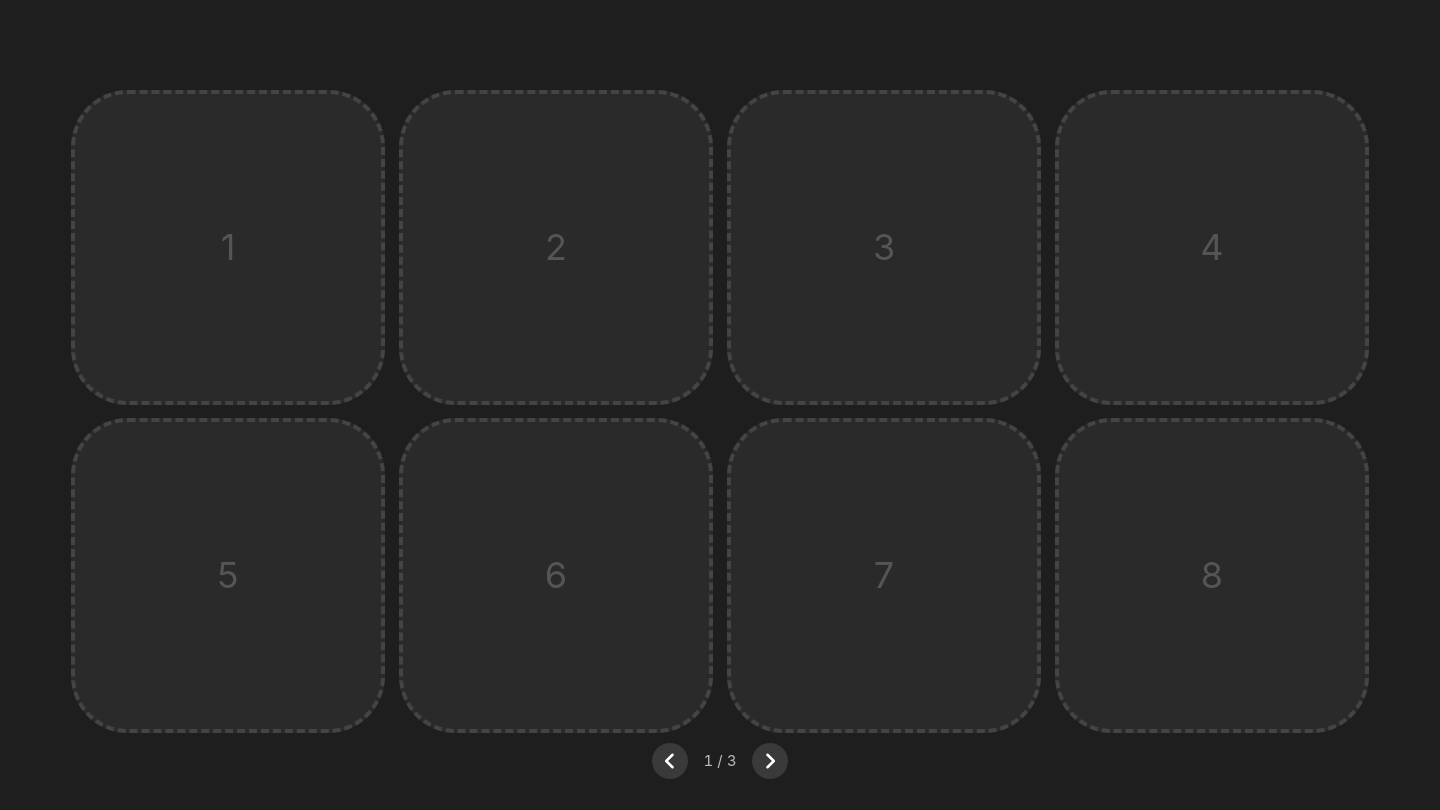
Test case: App remove › unregisters the item on the current page, closes the menu and refreshes state
Expected: the text "1 / 3" is shown, 704,751 -> 736,770
Click the button named "Next page".
click(770, 760)  # box 752,742 -> 788,778
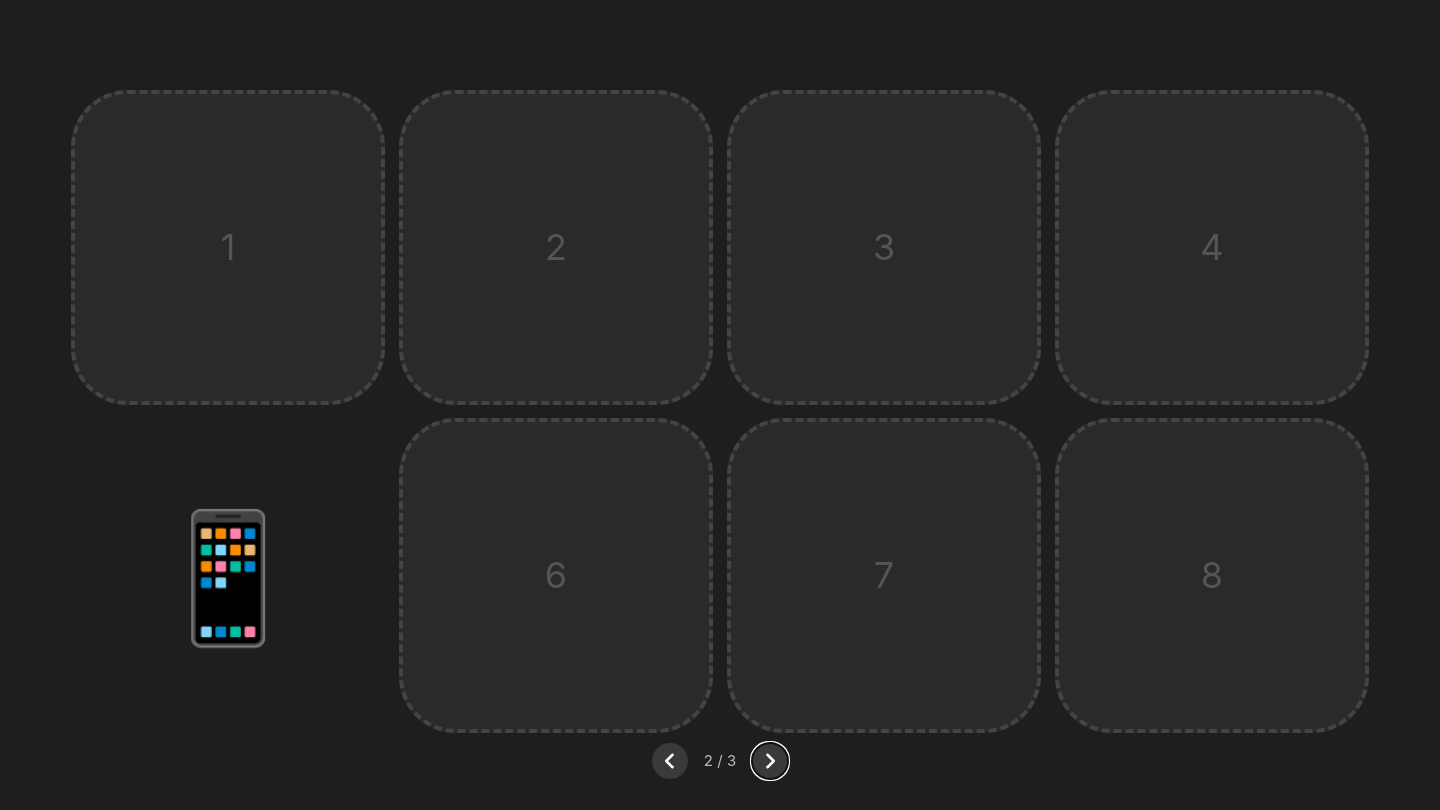
Right-click the button named "Foo".
right_click(228, 575)  # box 149,499 -> 307,651
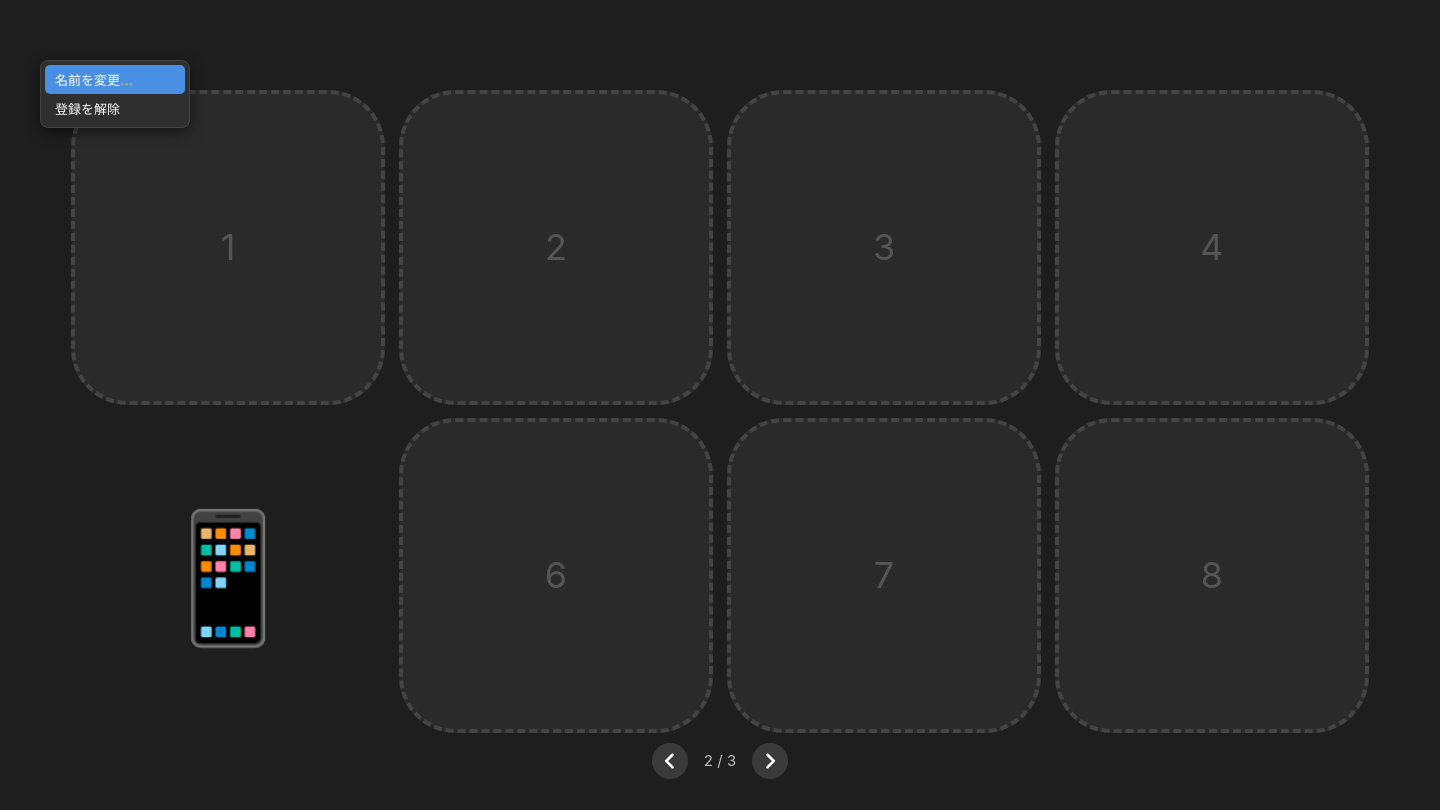
Click the menu item "登録を解除".
click(115, 108)  # box 45,94 -> 185,123
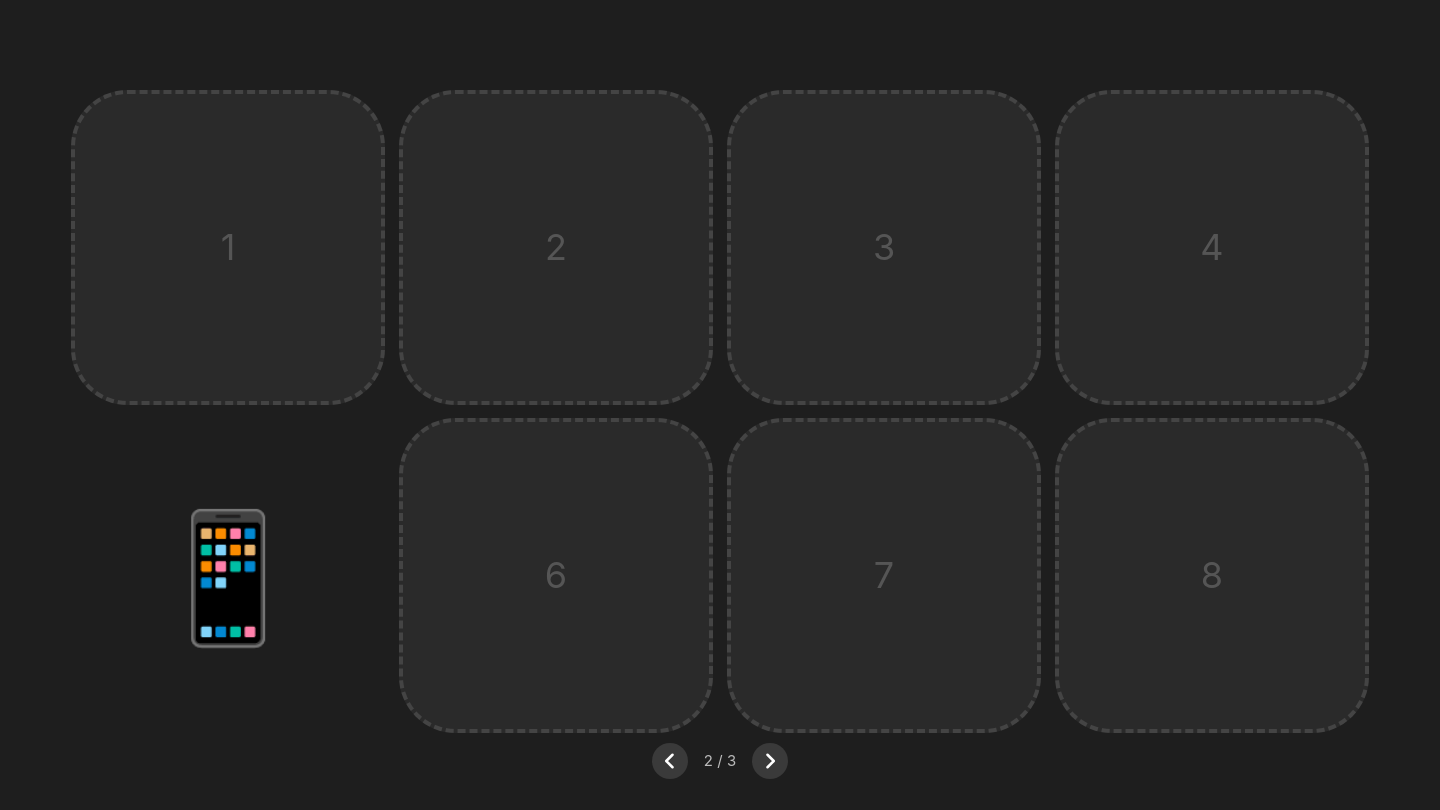
Result: the menu is gone
